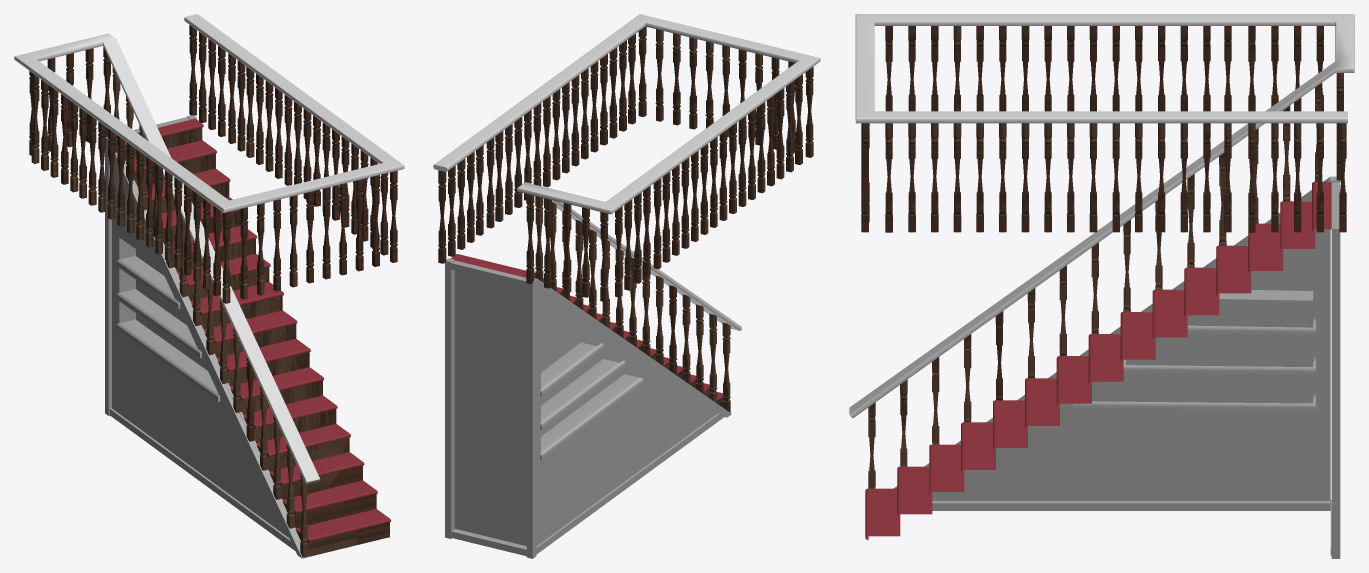
File: Escalera.fbx
3 views of the same model, side by side, from view 1: azimuth 30°, elevation 25°; view 2: azimuth 150°, elevation 25°; view 3: azimuth 270°, elevation 25° (orthographic). The views are drawn at different scales.
Parts seen in each view (by area): view 1: polySurface12; view 2: polySurface12; view 3: polySurface12.
Part boxes in pixels (box(x1,y1,x2,y2)): polySurface12: box(14, 14, 404, 558); polySurface12: box(433, 14, 820, 558); polySurface12: box(849, 14, 1354, 558).
Size of the model in its own units: 221 by 436 by 448.
